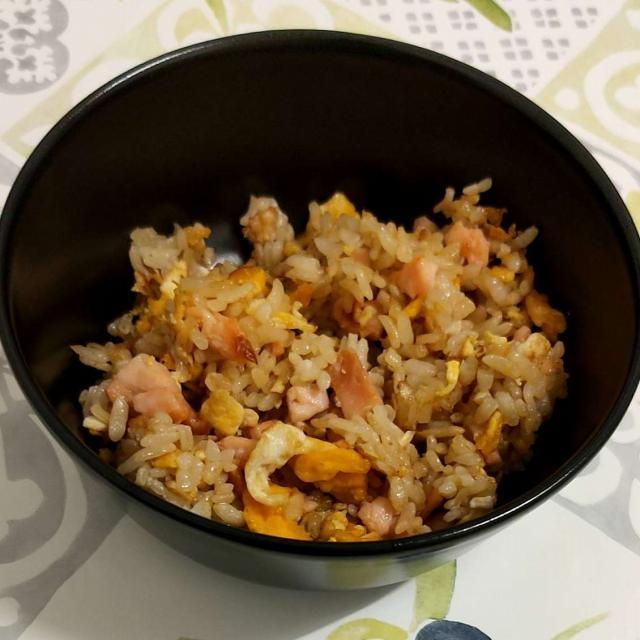rice: (73, 199, 560, 529)
salmon: (111, 344, 393, 432)
